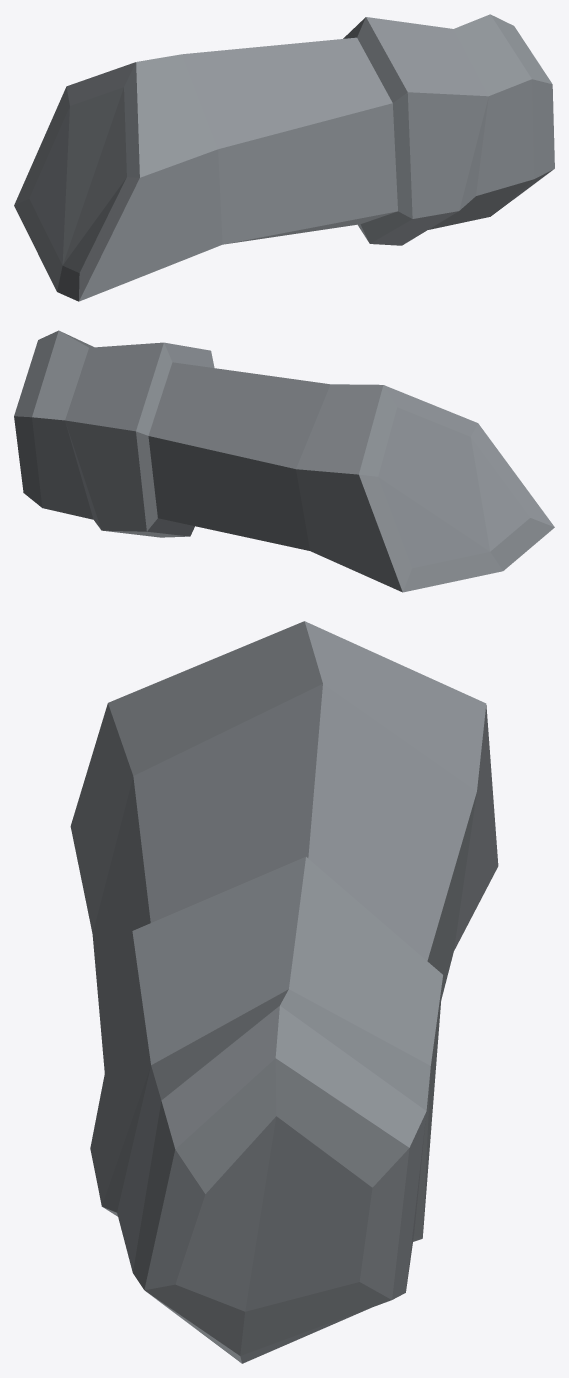
Rendered from Chr_ArmUpperLeft_Female_15_Static.fbx.
The picture shows the model from 3 angles, top to bottom: view 1: azimuth 30°, elevation 25°; view 2: azimuth 150°, elevation 25°; view 3: azimuth 270°, elevation 25°; orthographic projection. The views are drawn at different scales.
Visible parts, largest first — view 1: Chr_ArmUpperLeft_Female_15_Static; view 2: Chr_ArmUpperLeft_Female_15_Static; view 3: Chr_ArmUpperLeft_Female_15_Static.
Boxes of the visible parts, bbox=[...] form: Chr_ArmUpperLeft_Female_15_Static: bbox=[14, 14, 554, 301]; Chr_ArmUpperLeft_Female_15_Static: bbox=[14, 330, 554, 592]; Chr_ArmUpperLeft_Female_15_Static: bbox=[70, 621, 498, 1363].
Size of the model in its own units: 0.3512 by 0.1557 by 0.136.
